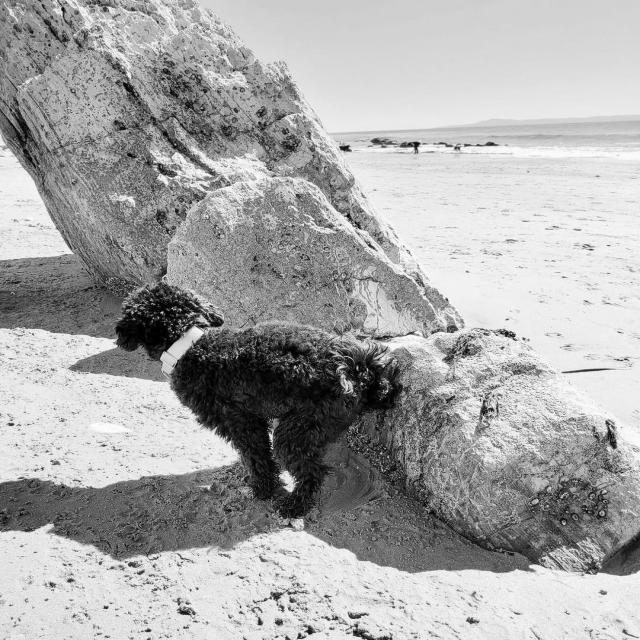squatting: (110, 283, 409, 522)
